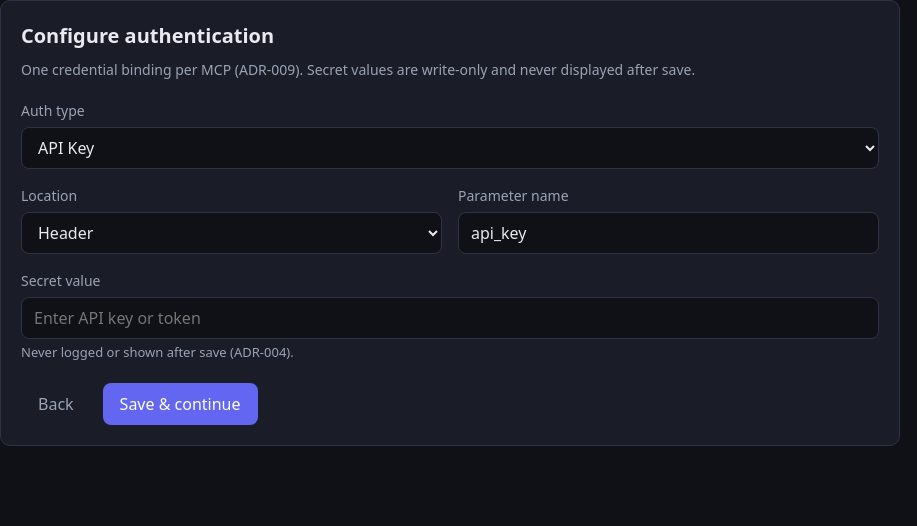
AuthStep › requires a secret when none is configured
Expected: the heading "Configure authentication" is shown, [21,22,274,49]
Click the button "Save & continue": (180,404) [103,382,258,424]
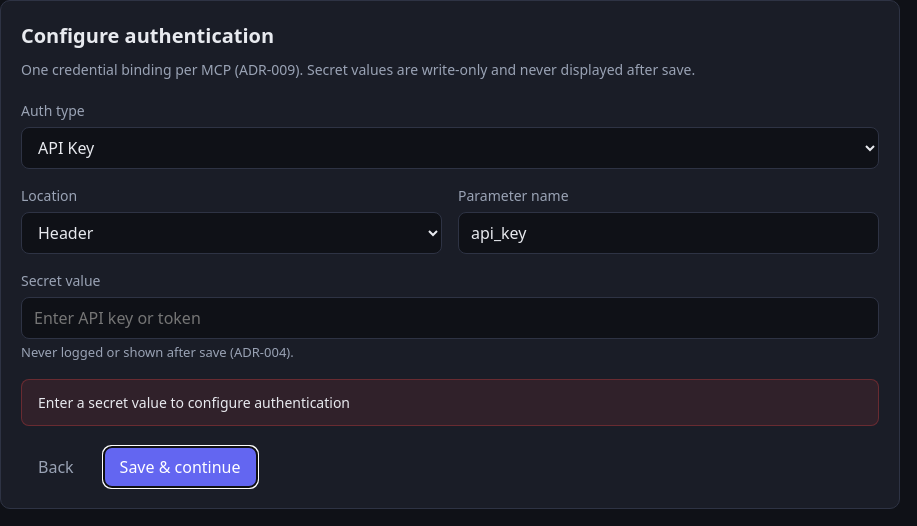
Expected: the text "Enter a secret value to configure authentication" is shown, [21,378,879,426]
